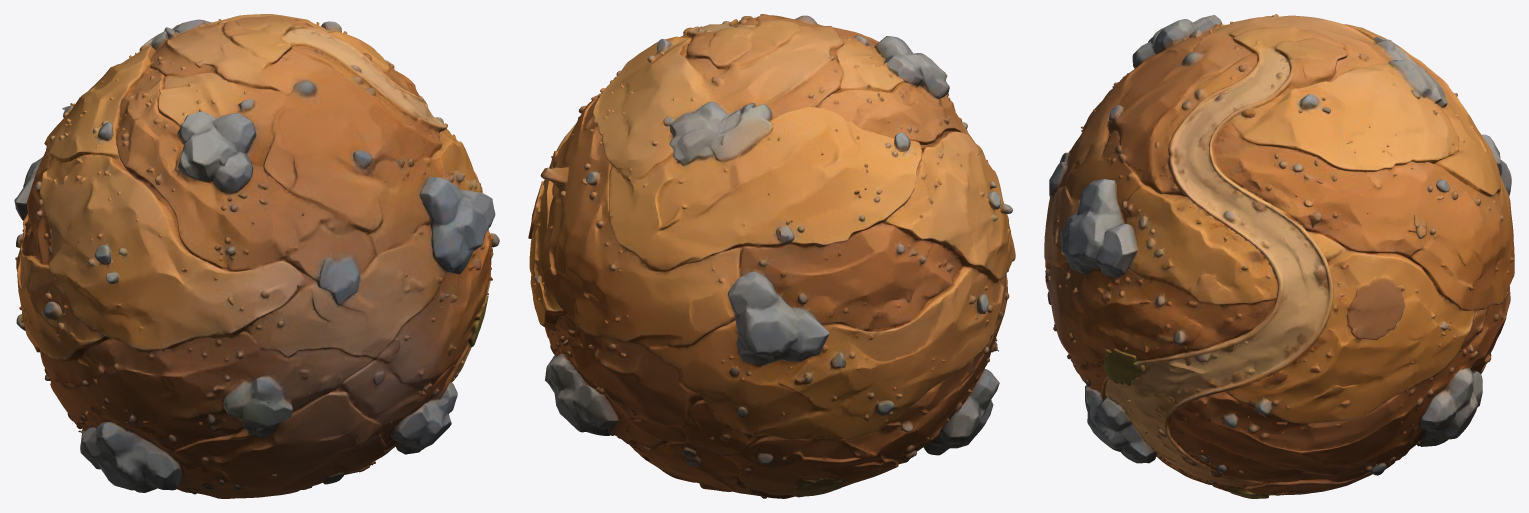
Rendered from earth_planet_base.glb.
The picture shows the model from 3 angles, left to right: view 1: azimuth 30°, elevation 25°; view 2: azimuth 150°, elevation 25°; view 3: azimuth 270°, elevation 25°; orthographic projection.
Parts seen in each view (by area): view 1: tripo_node_2d2b2d3c-8d65-44b6-9a95-f805217d7724; view 2: tripo_node_2d2b2d3c-8d65-44b6-9a95-f805217d7724; view 3: tripo_node_2d2b2d3c-8d65-44b6-9a95-f805217d7724.
Part boxes in pixels (<box>): tripo_node_2d2b2d3c-8d65-44b6-9a95-f805217d7724: <box>14,14,499,498</box>; tripo_node_2d2b2d3c-8d65-44b6-9a95-f805217d7724: <box>528,14,1015,498</box>; tripo_node_2d2b2d3c-8d65-44b6-9a95-f805217d7724: <box>1044,14,1514,498</box>.
Size of the model in its own units: 1 by 0.9979 by 0.9656.
Materials: 1 (1 with a texture image).
